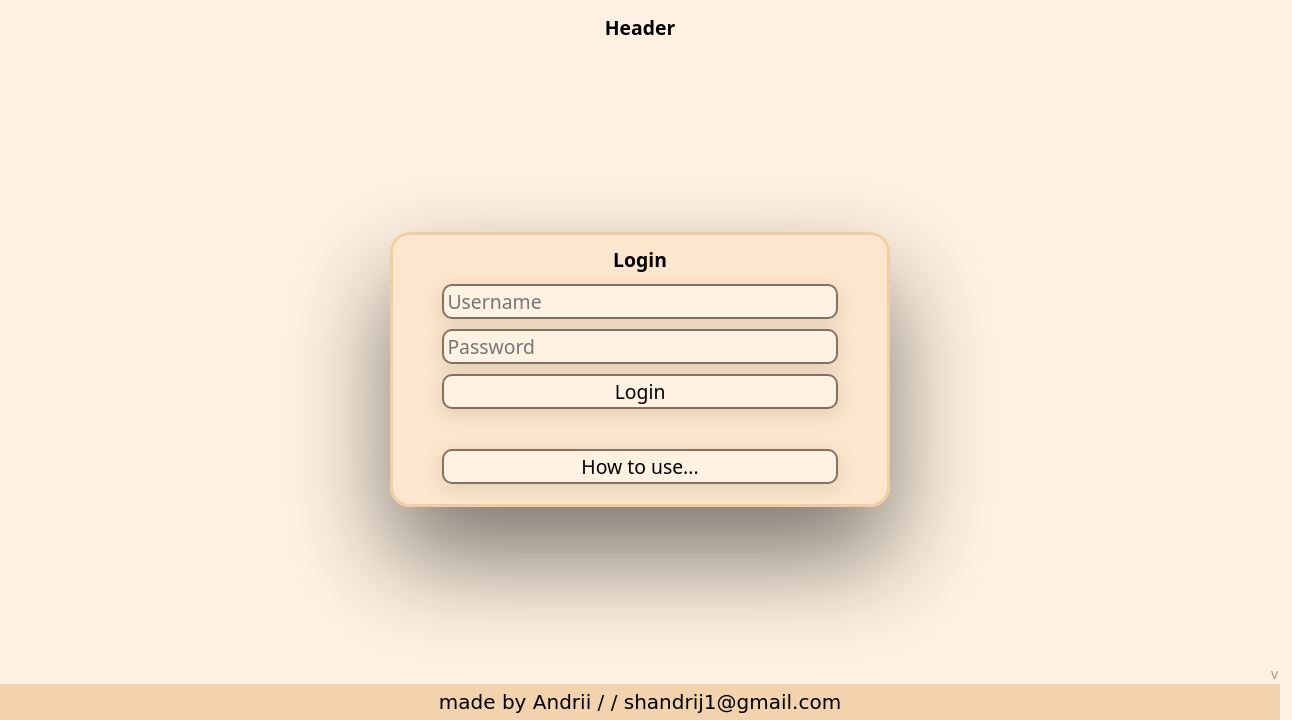
Scenario: LoginPage component › failed login shows error message
The width and height of the screenshot is (1292, 720).
Type "wrong" into the field with placeholder "Username" at (640, 301), box [442,284,838,319]
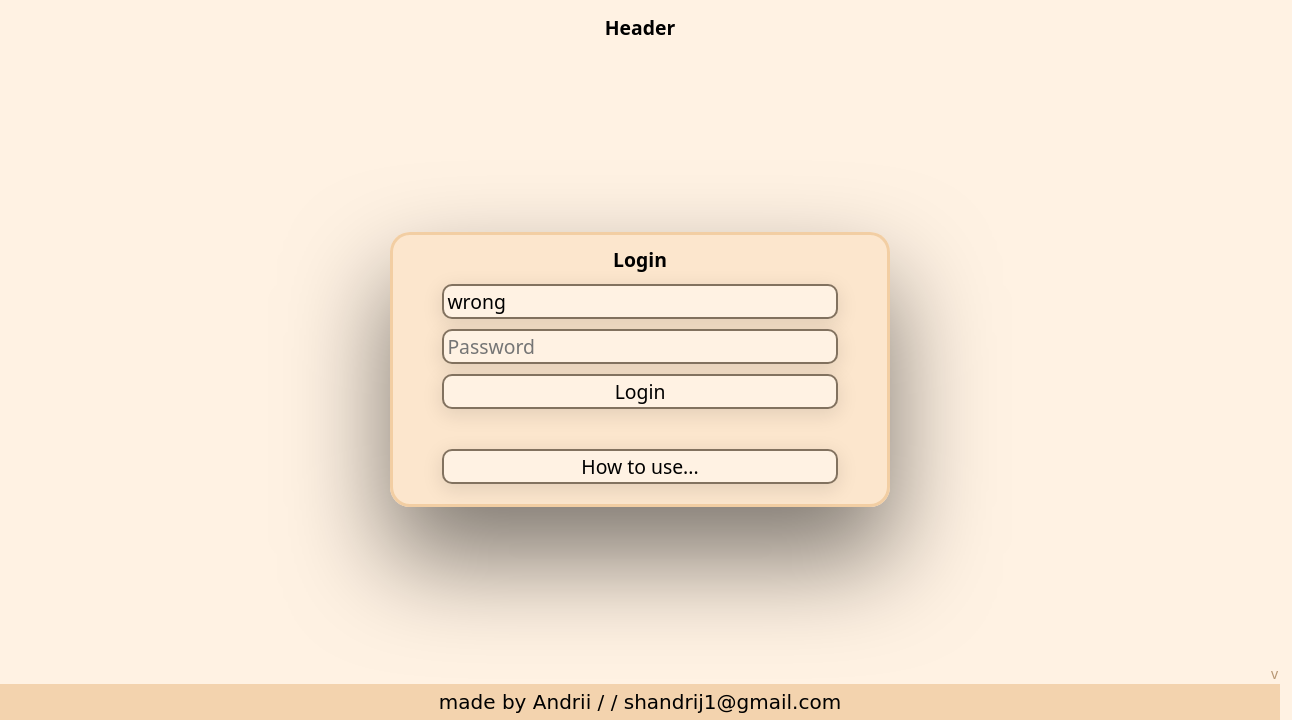
Type "wrong" into the password field with placeholder "Password" at (640, 346), box [442,329,838,364]
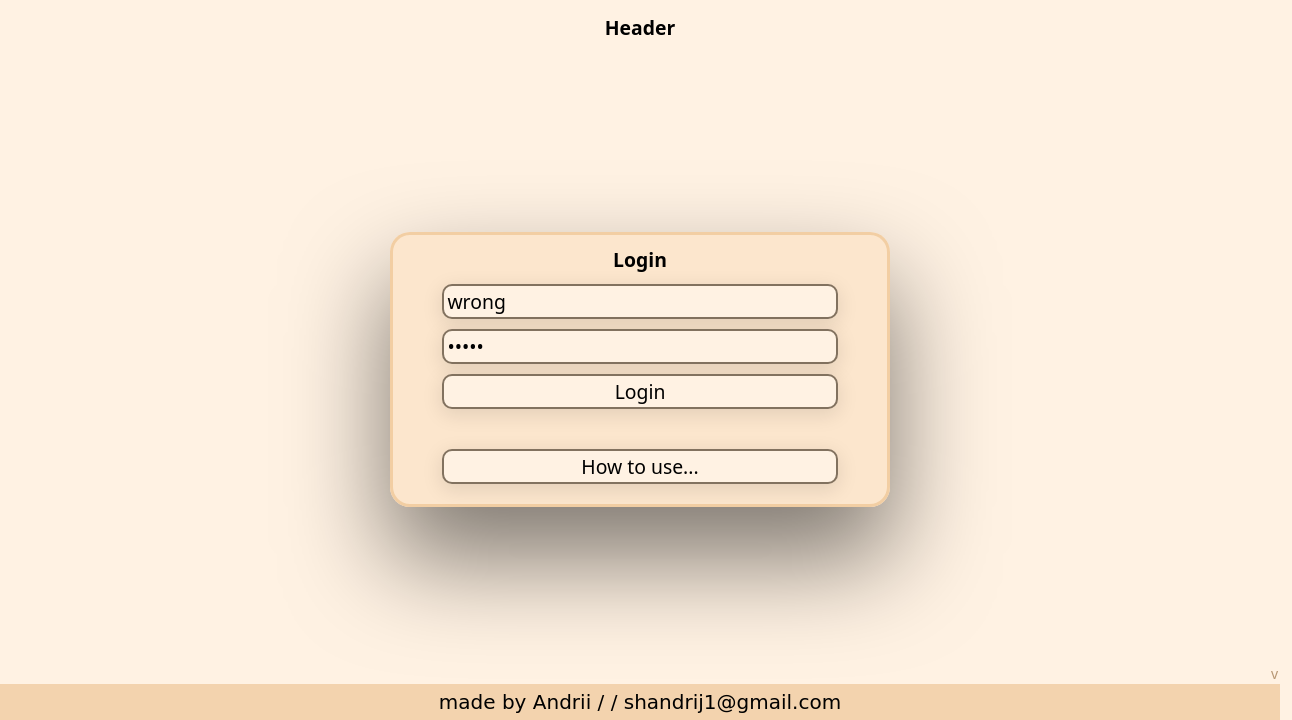
Click the button "Login" at (640, 392), box [442,374,838,409]
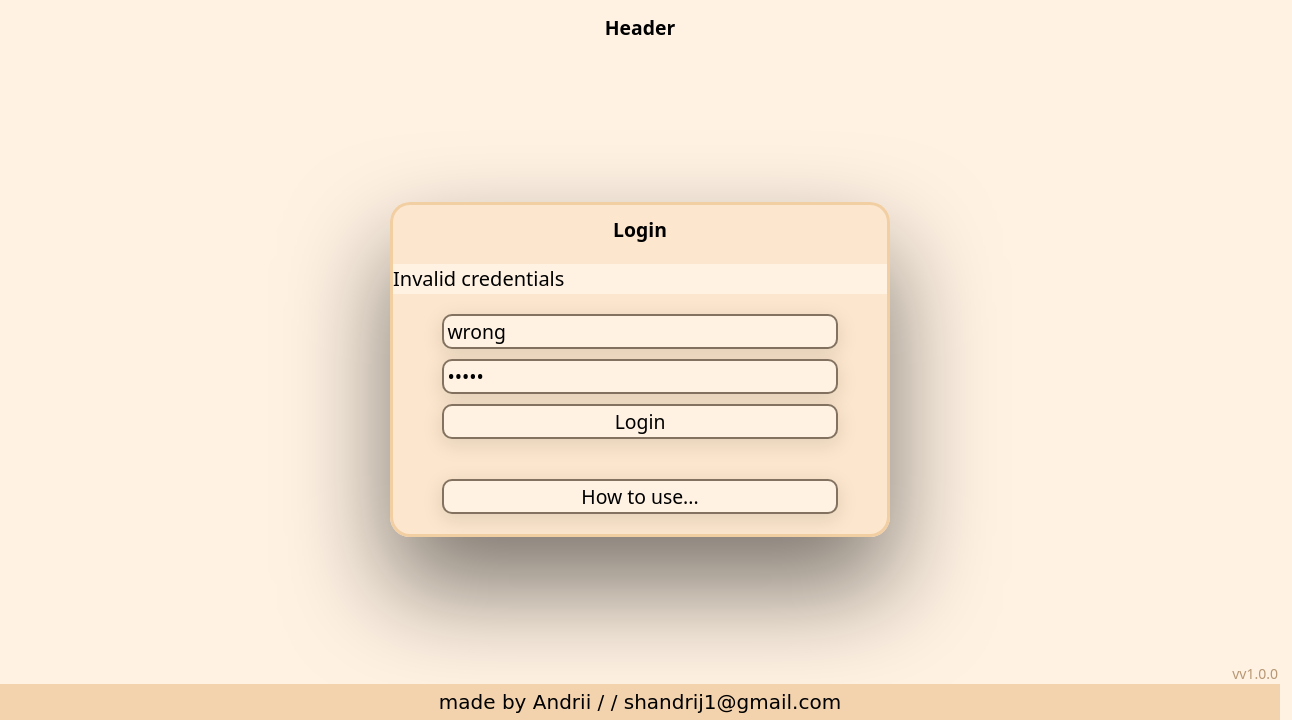
Result: the message reads "Invalid credentials" at [393,265,564,292]
